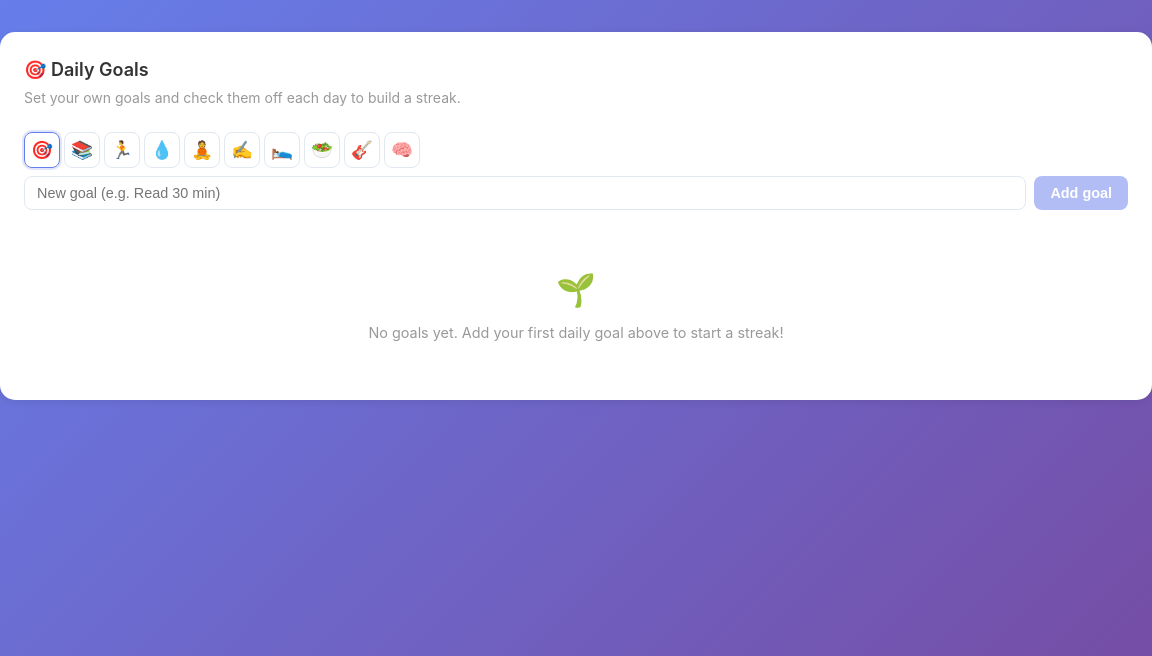
Test: StreakTracker › deletes a goal
Type "Exercise" into the field named "New goal name".
click(525, 193); type("Exercise")  # box [24,176,1026,210]
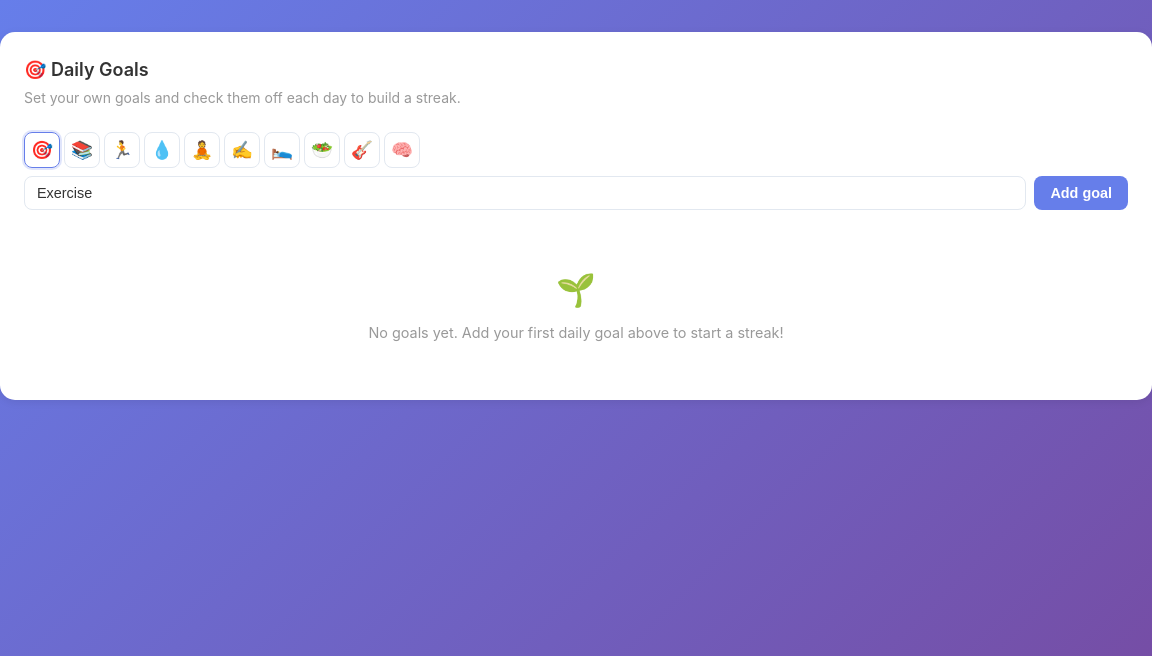
Click the button "Add goal".
click(1081, 193)  # box [1034,176,1128,210]
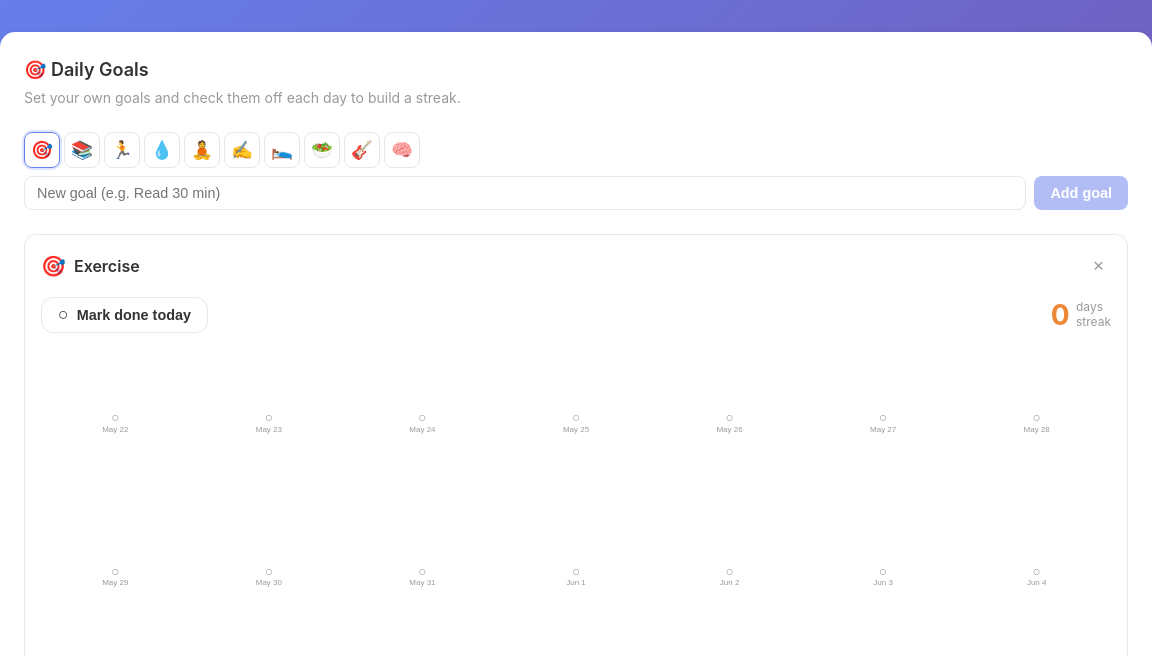
Click the button named "Delete goal Exercise".
click(1099, 266)  # box [1086,255,1111,277]
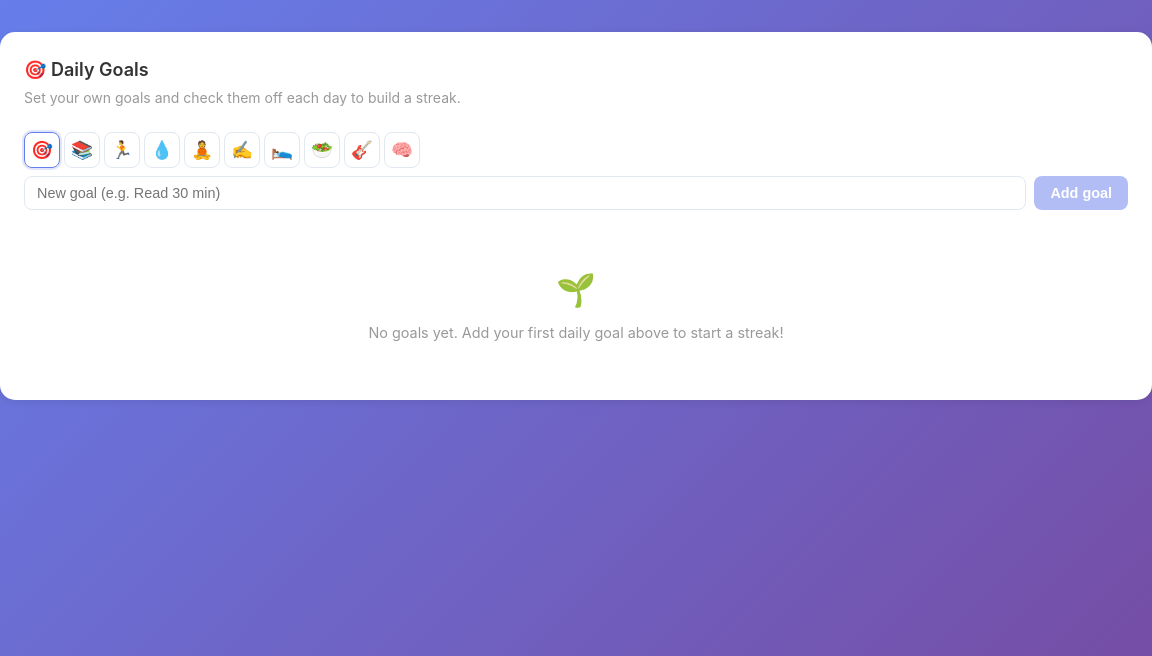
Expected: the text "No goals yet" is shown, [368,324,784,341]
